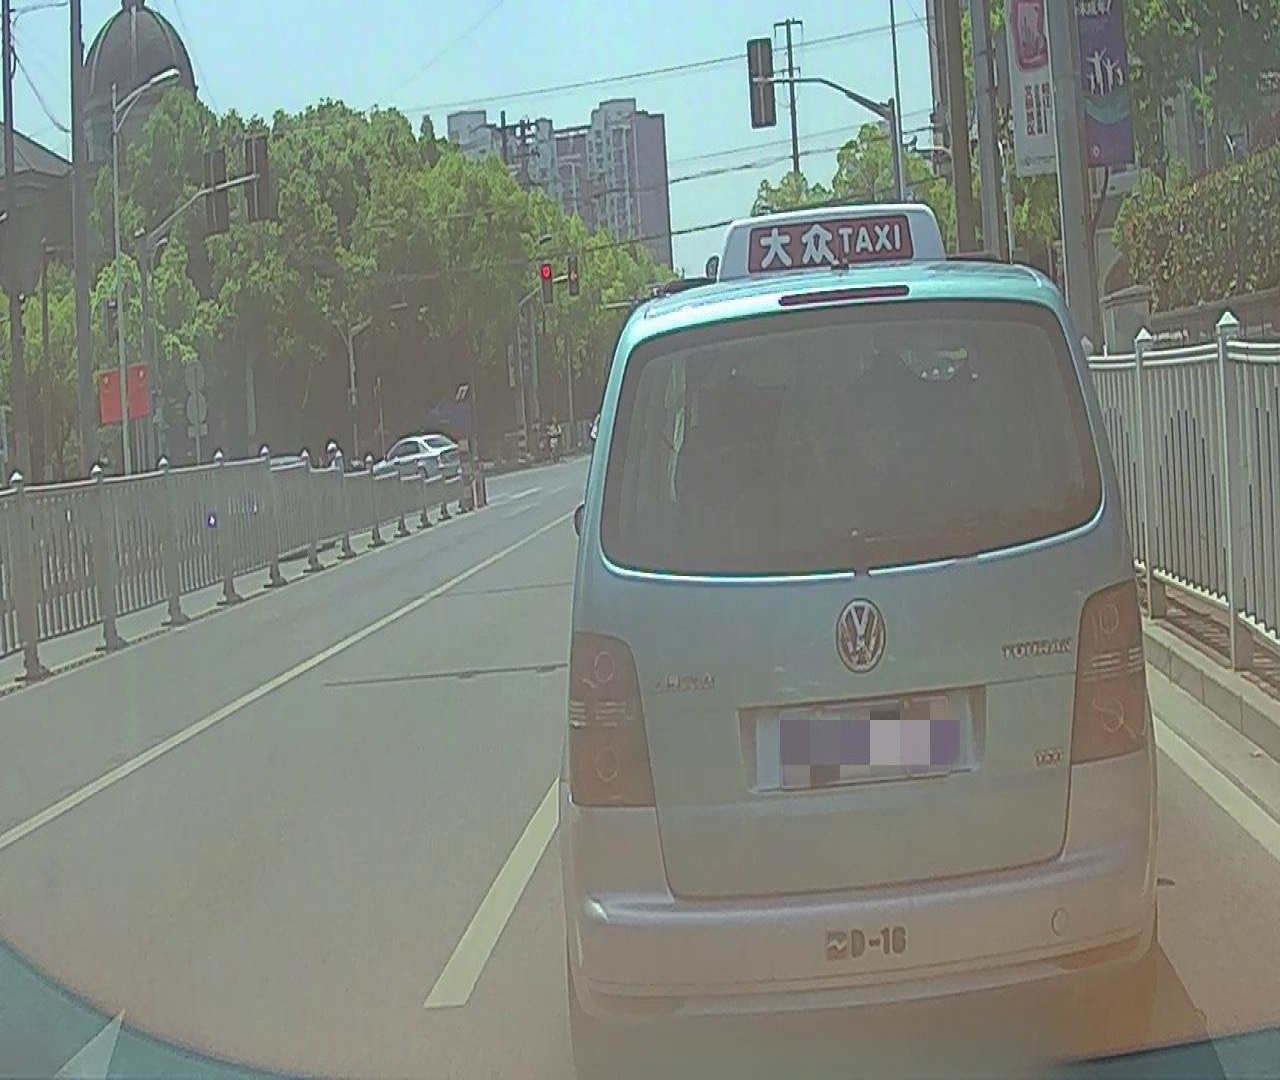red: (541, 264, 553, 304)
yellow: (567, 258, 578, 295)
